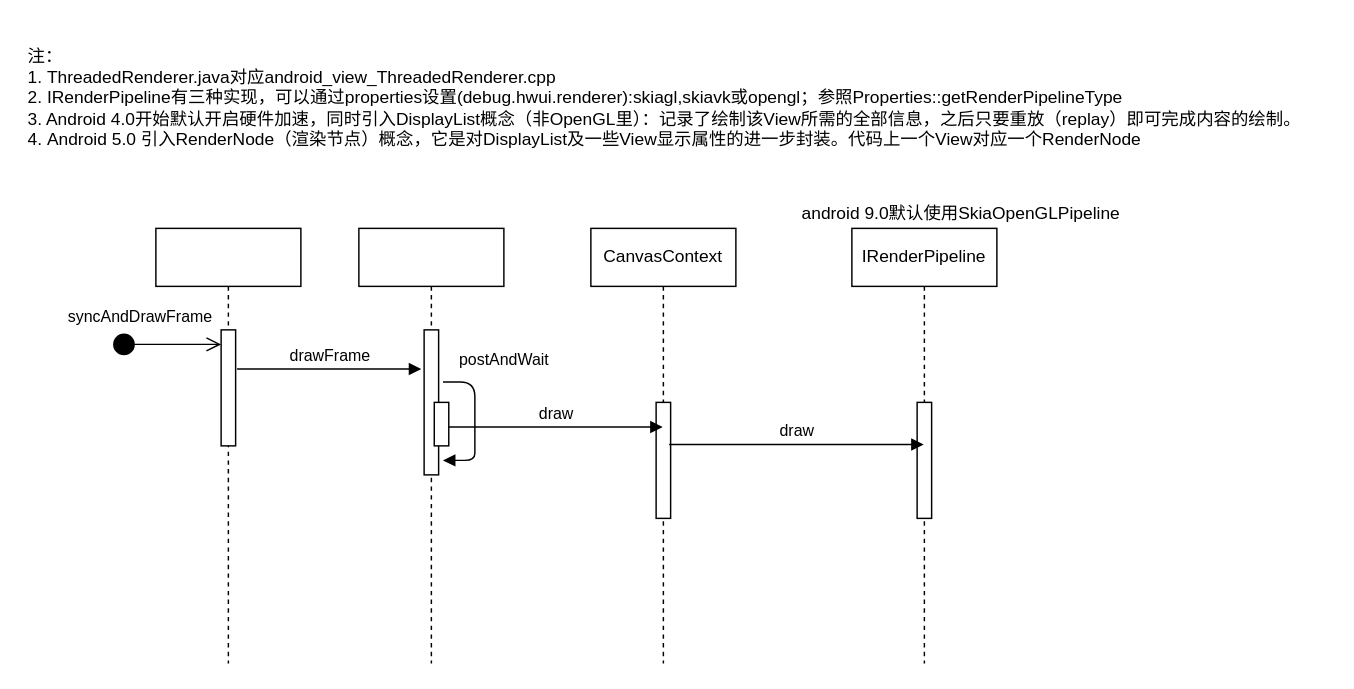
The diagram is 1354 pixels wide and 689 high, and some of its shapes have lost their labels. Here are the shapes that lost their labels. From the top down, the box of each, then its label:
(154, 227, 301, 663): RenderProxy
(357, 227, 504, 663): DrawFrameTask
